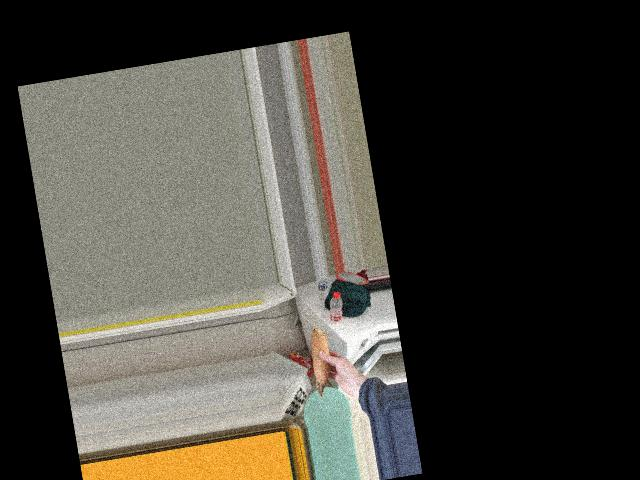sweet_potato: (308, 332, 338, 392)
